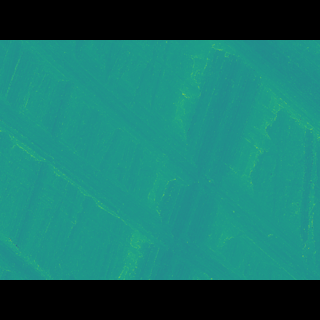Loch: (19, 70, 320, 250), (0, 110, 248, 250), (227, 70, 320, 141), (0, 214, 62, 250)
